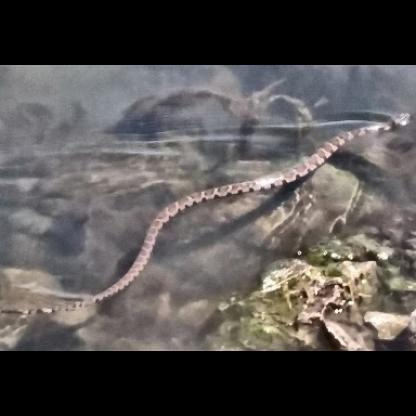Snake: (0, 169, 313, 317)
